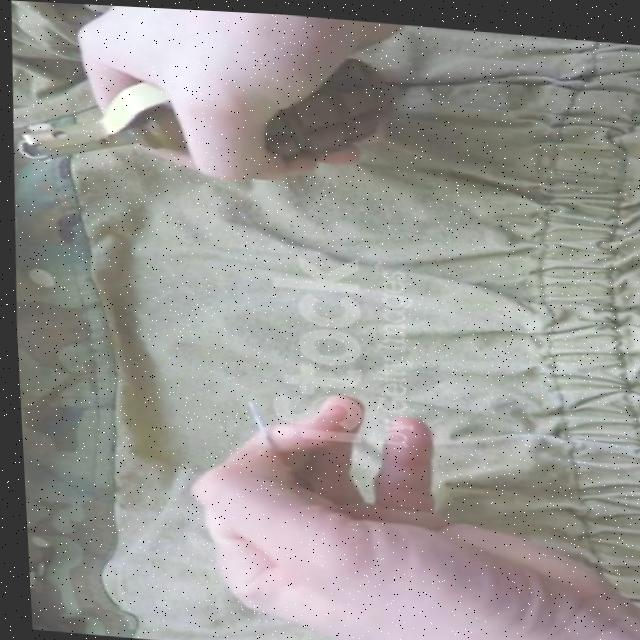grenade: (7, 25, 386, 179)
